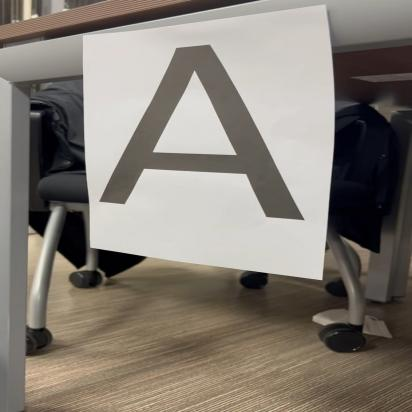seat: (86, 36, 322, 224)
